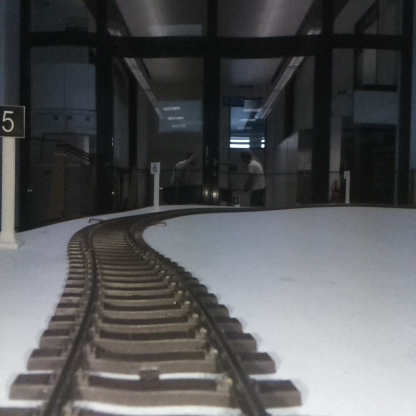black-info-5: (0, 106, 24, 246)
white-info-6: (150, 162, 160, 212)
